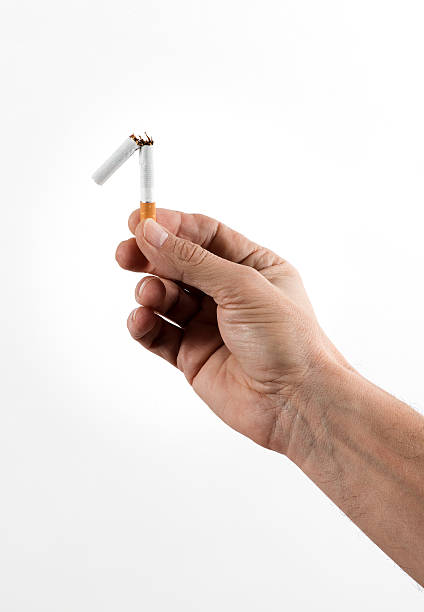cigarette: (87, 130, 139, 186), (138, 138, 156, 224)
